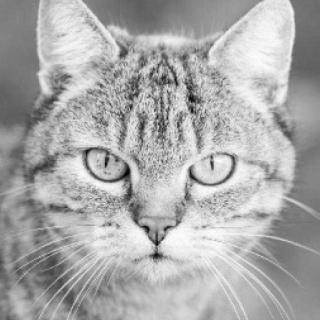cat: (23, 0, 303, 287)
nose: (134, 184, 187, 250)
